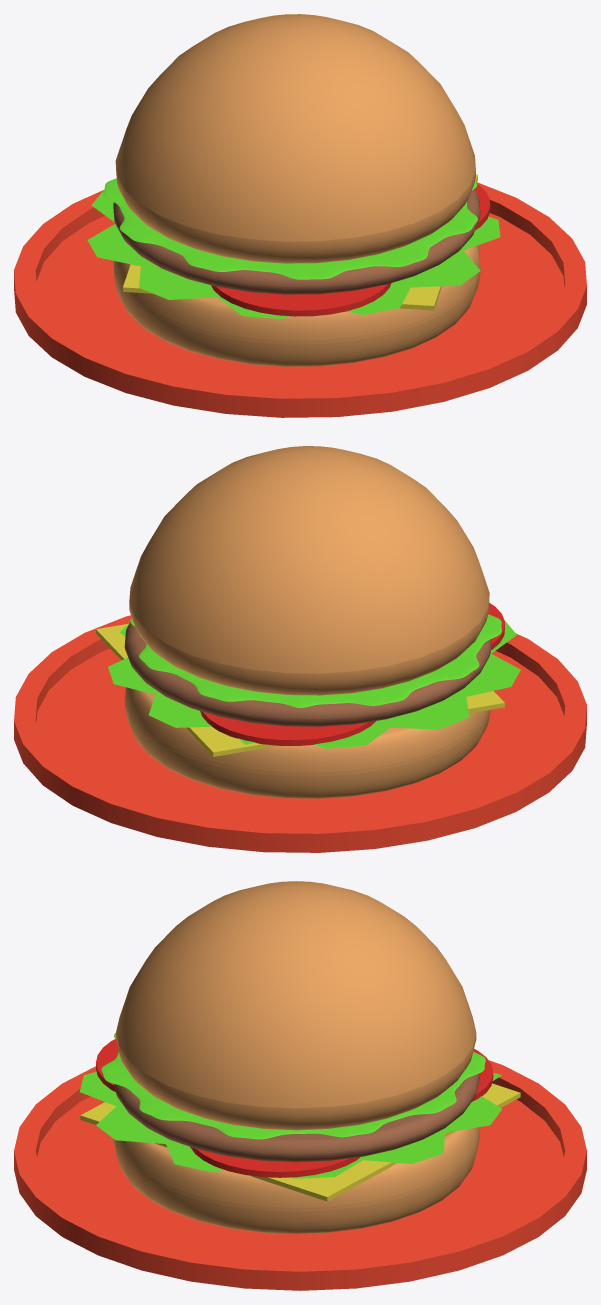
The model's file is burgerBaru1.gltf.
3 renders of one model, top to bottom at view 1: azimuth 30°, elevation 25°; view 2: azimuth 150°, elevation 25°; view 3: azimuth 270°, elevation 25°, orthographic.
Visible parts, largest first — view 1: Sphere, Circle.007, Circle.006, Circle.005, Circle.001, Circle, Circle.004, Plane; view 2: Sphere, Circle.007, Circle.006, Circle.001, Circle.005, Circle, Circle.003, Plane; view 3: Sphere, Circle.007, Circle.006, Circle.001, Circle.005, Circle, Plane, Circle.002, Circle.004.
Part boxes in pixels (x1,y1,x2,y2): Sphere: (115, 14, 475, 263); Circle.007: (14, 182, 586, 417); Circle.006: (113, 245, 480, 366); Circle.005: (87, 190, 500, 319); Circle.001: (113, 189, 480, 294); Circle: (103, 178, 477, 279); Circle.004: (211, 283, 391, 316); Plane: (123, 174, 477, 310); Sphere: (129, 446, 489, 695); Circle.007: (14, 615, 586, 852); Circle.006: (124, 687, 490, 798); Circle.001: (124, 622, 491, 726); Circle.005: (108, 620, 520, 748); Circle: (130, 614, 501, 707); Circle.003: (200, 711, 375, 745); Plane: (96, 623, 504, 756); Sphere: (116, 881, 476, 1130); Circle.007: (14, 1060, 586, 1290); Circle.006: (113, 1127, 479, 1233); Circle.001: (114, 1073, 479, 1162); Circle.005: (79, 1072, 501, 1178); Circle: (101, 1033, 485, 1139); Plane: (80, 1083, 520, 1201); Circle.002: (190, 1147, 360, 1177); Circle.004: (96, 1039, 118, 1091).
Bounding box in the file's own units: 3.12 × 1.61 × 3.12.
